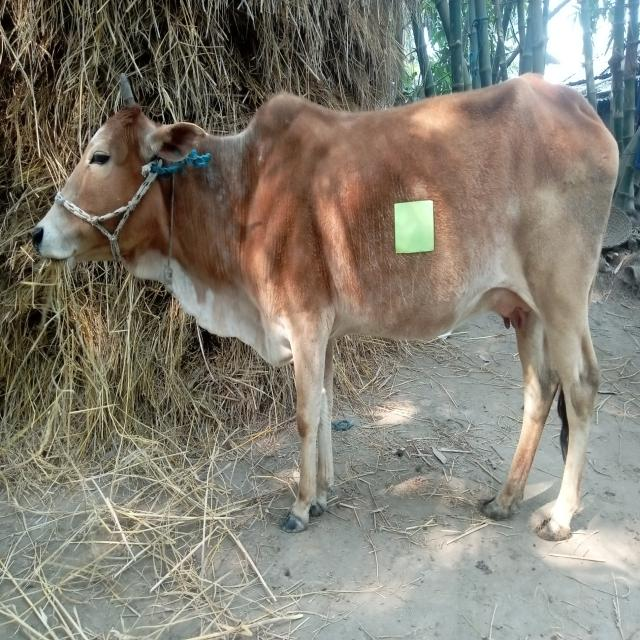badan_sapi: (250, 82, 620, 348)
sapi: (22, 63, 626, 537)
